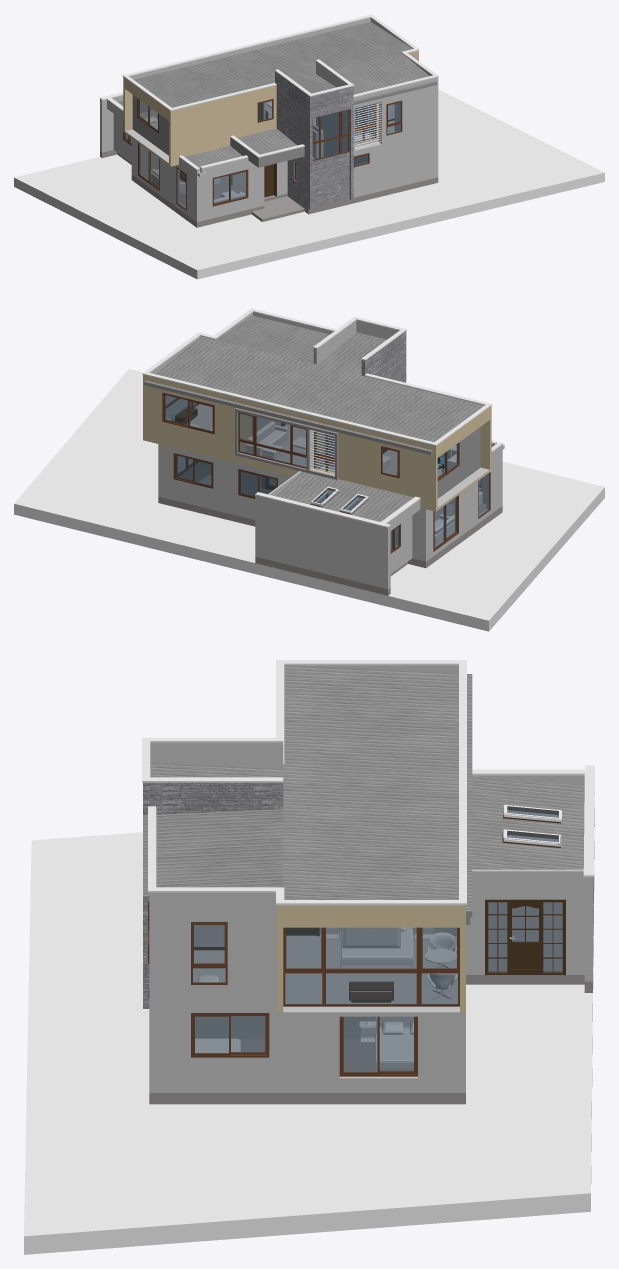
The model's file is moderna.glb.
The picture shows the model from 3 angles, top to bottom: view 1: azimuth 30°, elevation 25°; view 2: azimuth 150°, elevation 25°; view 3: azimuth 270°, elevation 25°; orthographic projection. The views are drawn at different scales.
Parts seen in each view (by area): view 1: moderna; view 2: moderna; view 3: moderna.
Part boxes in pixels (bbox=[...]): moderna: bbox=[14, 14, 604, 279]; moderna: bbox=[14, 308, 604, 631]; moderna: bbox=[24, 660, 594, 1254].
Bounding box in the file's own units: 25.31 × 6.97 × 13.97.
Materials: 32 (2 with a texture image).
